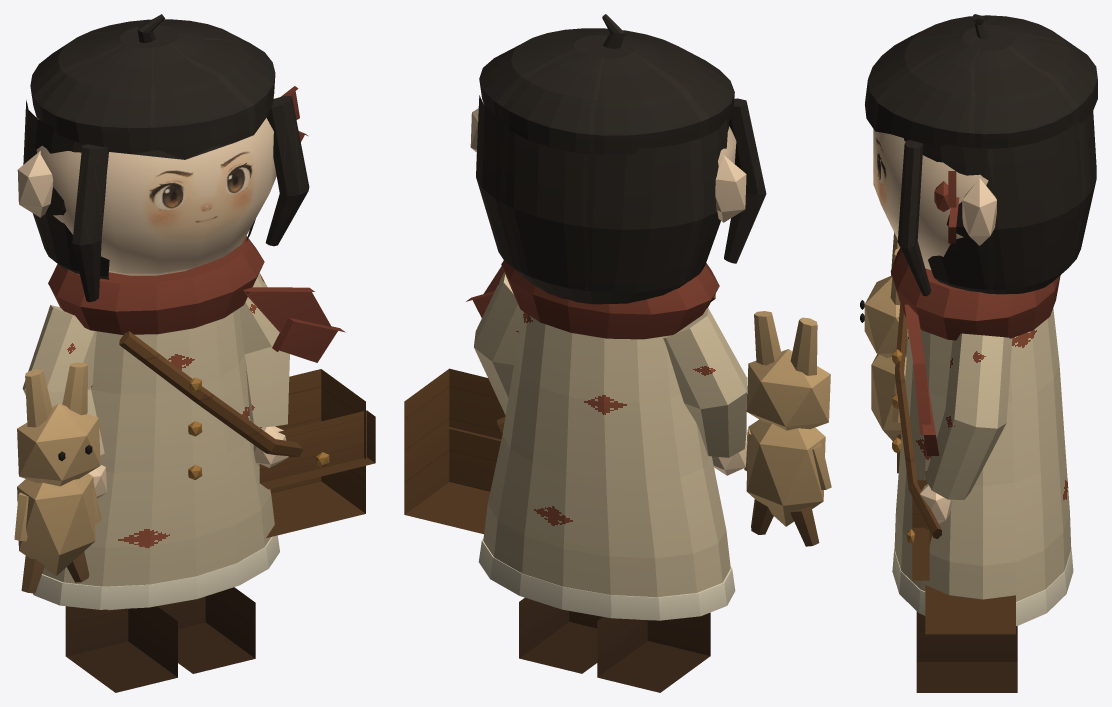
Rendered from mira-v02.glb.
The picture shows the model from 3 angles, left to right: view 1: azimuth 30°, elevation 25°; view 2: azimuth 150°, elevation 25°; view 3: azimuth 270°, elevation 25°; orthographic projection.
Visible parts, largest first — view 1: coat, hair_crown, skull, scarf_wrap, boot_l, satchel, boot_r, coat_hem, rabbit_body, satchel_flap, rabbit_head, sleeve_r (+12 smaller); view 2: coat, hair_bob, hair_crown, satchel, sleeve_l, scarf_wrap, boot_l, coat_hem, rabbit_body, rabbit_head, boot_r, sleeve_r (+5 smaller); view 3: coat, hair_crown, hair_bob, sleeve_r, scarf_wrap, boot_r, skull, satchel, hair_side_r, coat_hem, satchel_strap, rabbit_head (+7 smaller).
Part boxes in pixels (left/top/right/bottom): coat: left=42, top=308, right=274, bottom=586; hair_crown: left=30, top=19, right=275, bottom=159; skull: left=36, top=116, right=276, bottom=275; scarf_wrap: left=48, top=236, right=264, bottom=334; boot_l: left=65, top=606, right=177, bottom=692; satchel: left=260, top=369, right=365, bottom=538; boot_r: left=157, top=587, right=255, bottom=673; coat_hem: left=33, top=535, right=279, bottom=609; rabbit_body: left=17, top=473, right=95, bottom=575; satchel_flap: left=259, top=410, right=375, bottom=489; rabbit_head: left=17, top=403, right=100, bottom=486; sleeve_r: left=239, top=272, right=289, bottom=427; coat: left=483, top=310, right=730, bottom=597; hair_bob: left=476, top=95, right=728, bottom=304; hair_crown: left=479, top=28, right=734, bottom=155; satchel: left=404, top=368, right=505, bottom=534; sleeve_l: left=663, top=308, right=746, bottom=457; scarf_wrap: left=501, top=260, right=719, bottom=339; boot_l: left=597, top=612, right=710, bottom=692; coat_hem: left=478, top=537, right=735, bottom=620; rabbit_body: left=746, top=419, right=825, bottom=526; rabbit_head: left=746, top=349, right=830, bottom=430; boot_r: left=519, top=598, right=602, bottom=673; sleeve_r: left=474, top=272, right=521, bottom=414; coat: left=894, top=308, right=1071, bottom=601; hair_crown: left=865, top=15, right=1097, bottom=148; hair_bob: left=904, top=111, right=1096, bottom=294; sleeve_r: left=925, top=333, right=1012, bottom=499; scarf_wrap: left=890, top=248, right=1060, bottom=340; boot_r: left=916, top=611, right=1017, bottom=692; skull: left=873, top=129, right=988, bottom=269; satchel: left=925, top=471, right=1015, bottom=634; hair_side_r: left=897, top=140, right=931, bottom=296; coat_hem: left=892, top=548, right=1073, bottom=625; satchel_strap: left=895, top=303, right=941, bottom=538; rabbit_head: left=864, top=275, right=908, bottom=357.
Bounding box in the file's own units: 1.24 × 2.05 × 0.6831.
Materials: 2 (2 with a texture image).
